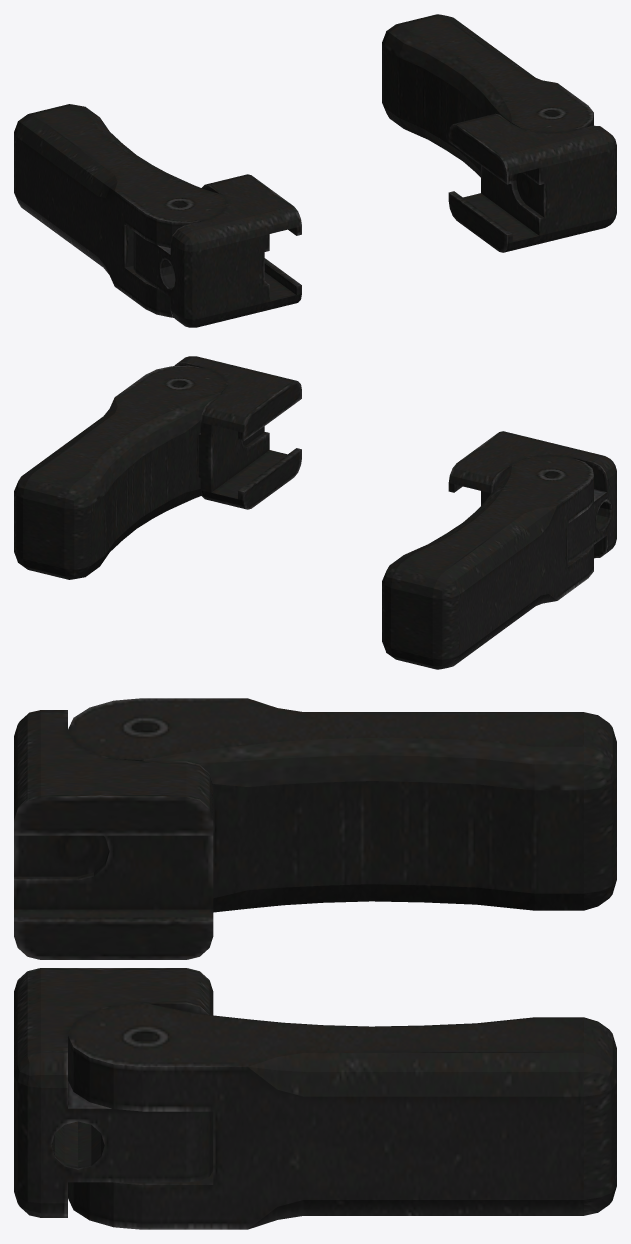
3 renders of one model, top to bottom at view 1: azimuth 30°, elevation 25°; view 2: azimuth 150°, elevation 25°; view 3: azimuth 270°, elevation 25°, orthographic. The views are drawn at different scales.
Visible parts, largest first — view 1: TW_5cc6ea85e4a949000e1ea3c3_PZ_Import; view 2: TW_5cc6ea85e4a949000e1ea3c3_PZ_Import; view 3: TW_5cc6ea85e4a949000e1ea3c3_PZ_Import.
Part boxes in pixels (x1,y1,x2,y2): TW_5cc6ea85e4a949000e1ea3c3_PZ_Import: (14, 14, 616, 327); TW_5cc6ea85e4a949000e1ea3c3_PZ_Import: (14, 356, 616, 669); TW_5cc6ea85e4a949000e1ea3c3_PZ_Import: (14, 698, 616, 1229).
Bounding box in the file's own units: 0.0415 × 0.0287 × 0.00869.
1 material, 1 textured.
